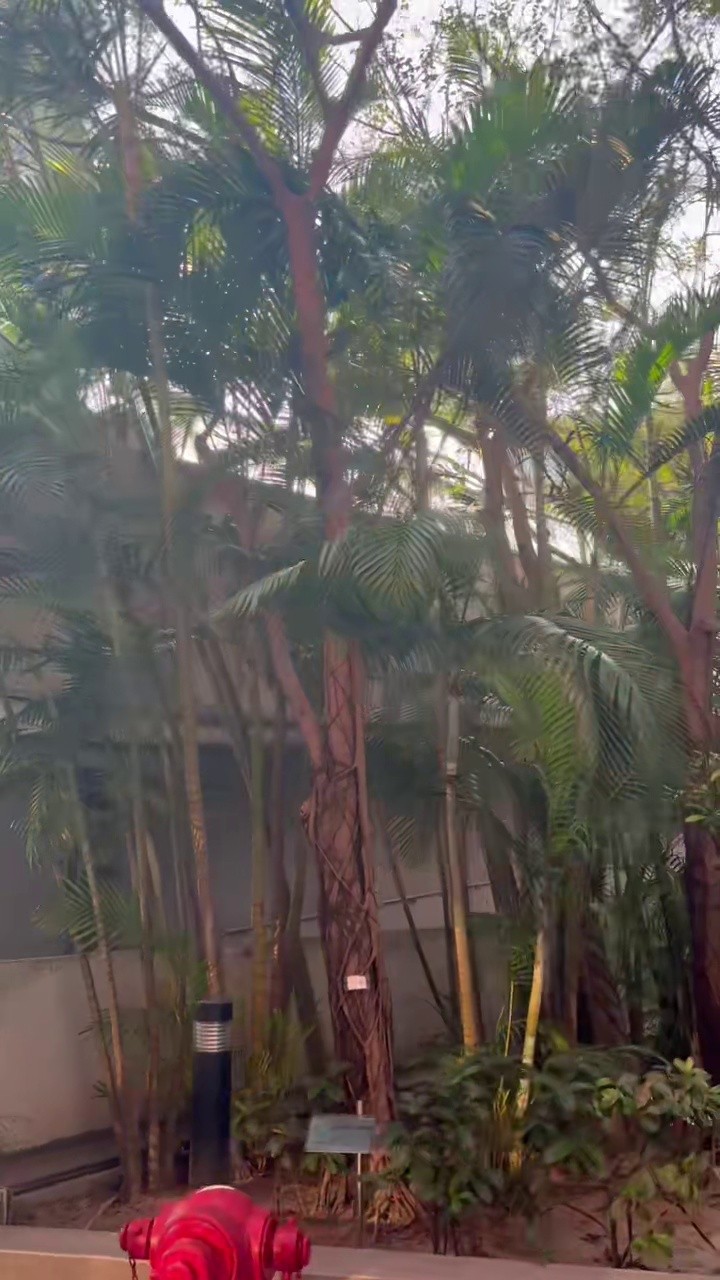Ficus benjamina: (138, 0, 395, 1120)
